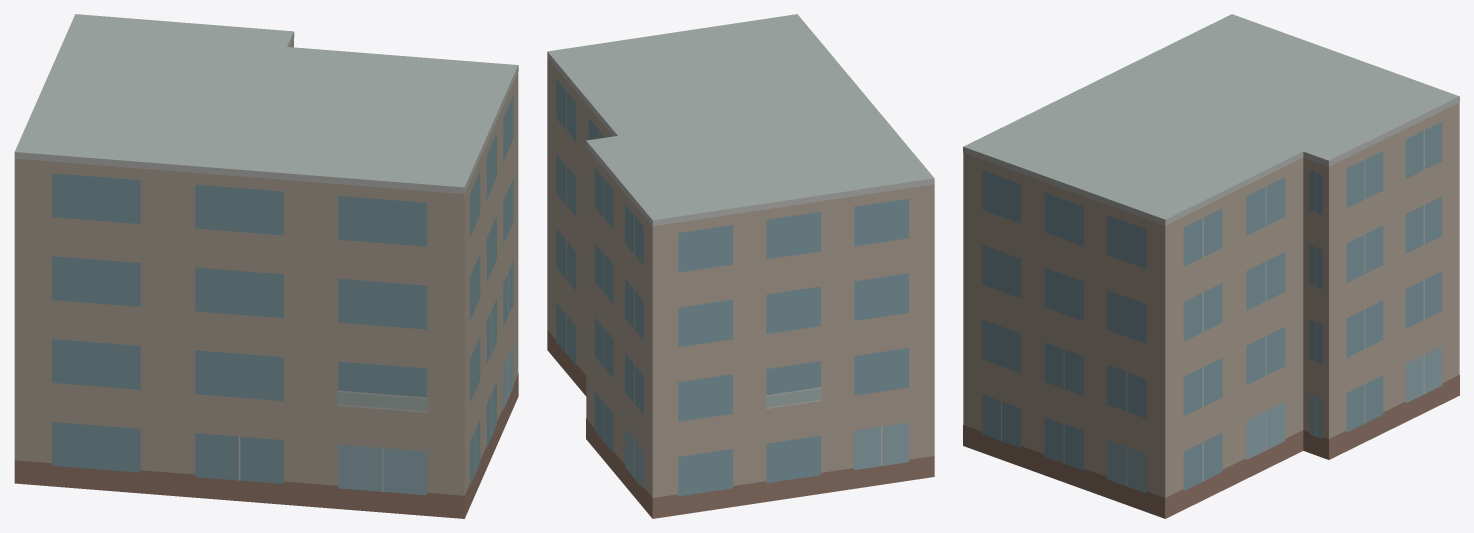
The model's file is residential-4fb2410d-baf9-4b4e-a70c-2a27c8accf98.glb.
3 views of the same model, side by side, from view 1: azimuth 30°, elevation 25°; view 2: azimuth 150°, elevation 25°; view 3: azimuth 270°, elevation 25° (orthographic). The views are drawn at different scales.
Visible parts, largest first — view 1: residential-4fb2410d-baf9-4b4e-a70c-2a27c8accf98.tmp; view 2: residential-4fb2410d-baf9-4b4e-a70c-2a27c8accf98.tmp; view 3: residential-4fb2410d-baf9-4b4e-a70c-2a27c8accf98.tmp.
Boxes of the visible parts, bbox=[...] form: residential-4fb2410d-baf9-4b4e-a70c-2a27c8accf98.tmp: bbox=[14, 14, 518, 518]; residential-4fb2410d-baf9-4b4e-a70c-2a27c8accf98.tmp: bbox=[547, 14, 934, 518]; residential-4fb2410d-baf9-4b4e-a70c-2a27c8accf98.tmp: bbox=[963, 14, 1459, 518].
Size of the model in its own units: 17.99 by 12.2 by 18.35.
